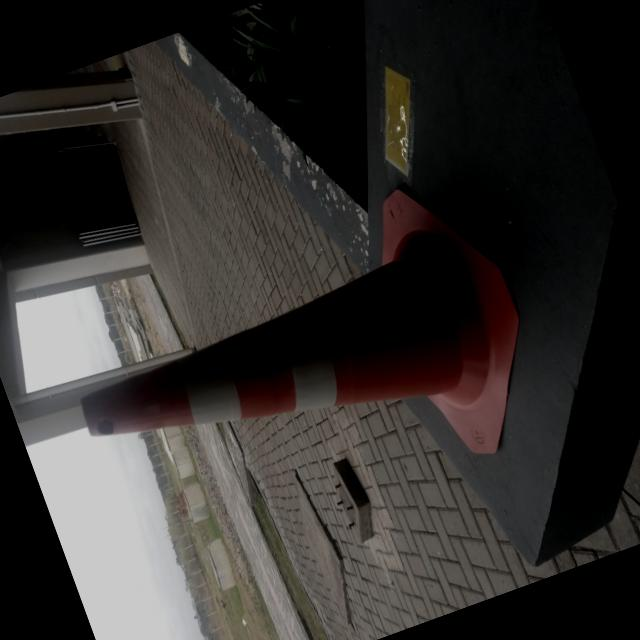cone: (39, 172, 552, 568)
